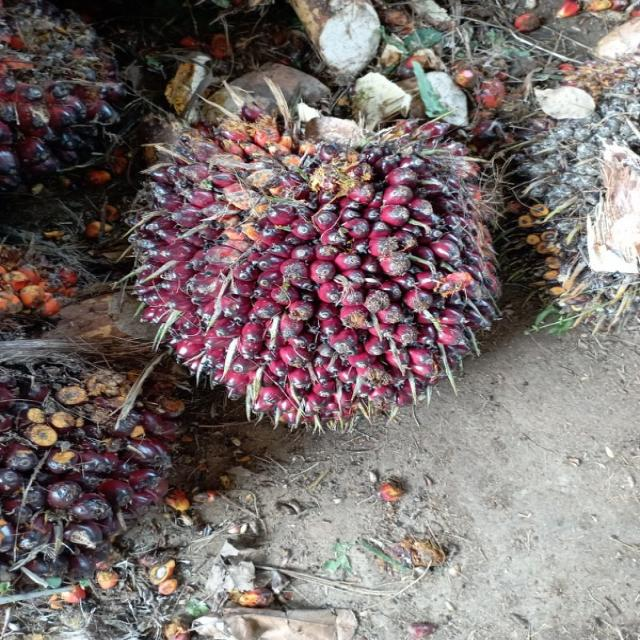fraksi 1: (98, 87, 544, 469)
